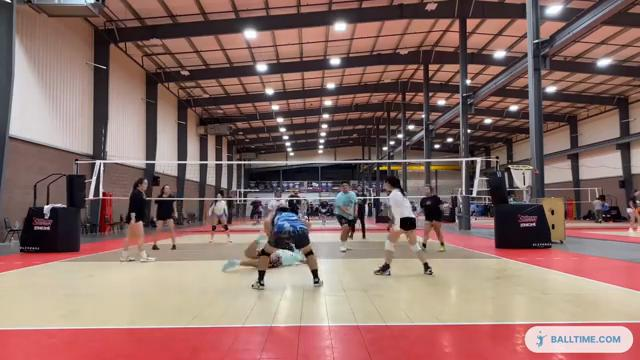Dig: (218, 228, 312, 274)
Player: (374, 176, 432, 275), (252, 207, 322, 289), (120, 178, 154, 261), (420, 185, 445, 251), (152, 185, 176, 249), (335, 181, 356, 251), (209, 191, 231, 242), (267, 190, 285, 215), (250, 199, 261, 224), (319, 200, 328, 224)
